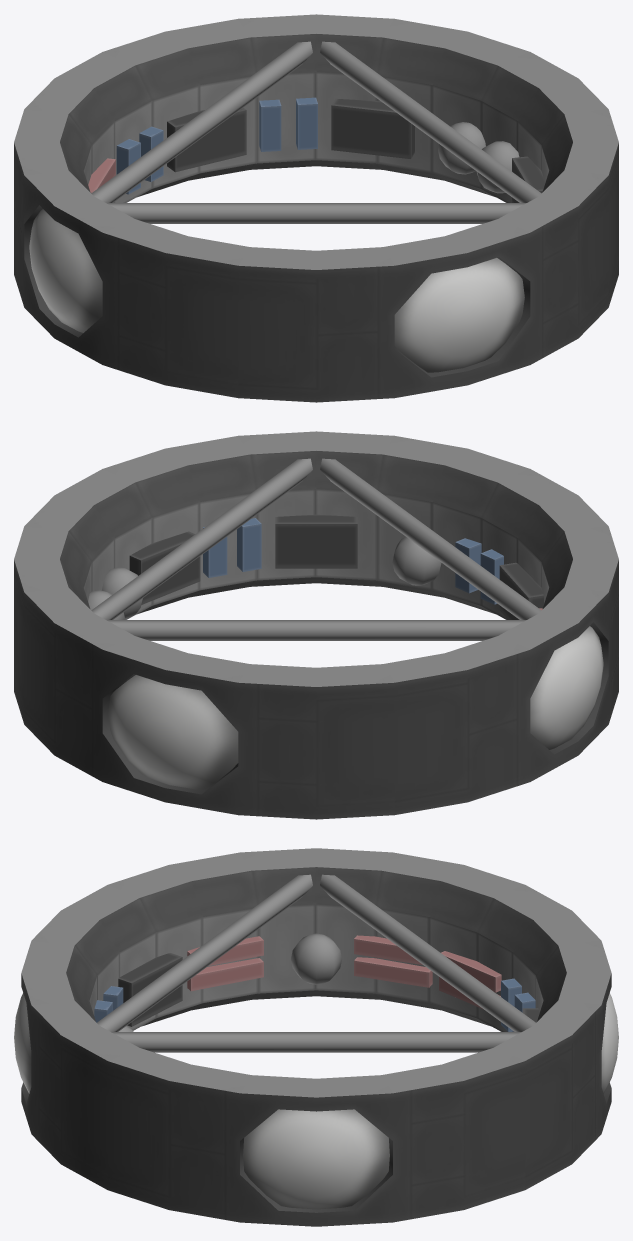
Rendered from Saturn_S4_InstrumentUnit.dae.
The picture shows the model from 3 angles, top to bottom: view 1: azimuth 30°, elevation 25°; view 2: azimuth 150°, elevation 25°; view 3: azimuth 270°, elevation 25°; orthographic projection. The views are drawn at different scales.
Parts seen in each view (by area): view 1: SIV_InstrumentUnit6; view 2: SIV_InstrumentUnit6; view 3: SIV_InstrumentUnit6.
Part boxes in pixels (x1,y1,x2,y2): SIV_InstrumentUnit6: (14, 14, 618, 402); SIV_InstrumentUnit6: (14, 431, 618, 819); SIV_InstrumentUnit6: (14, 848, 618, 1226).
Size of the model in its own units: 2.56 by 0.6037 by 2.56.
